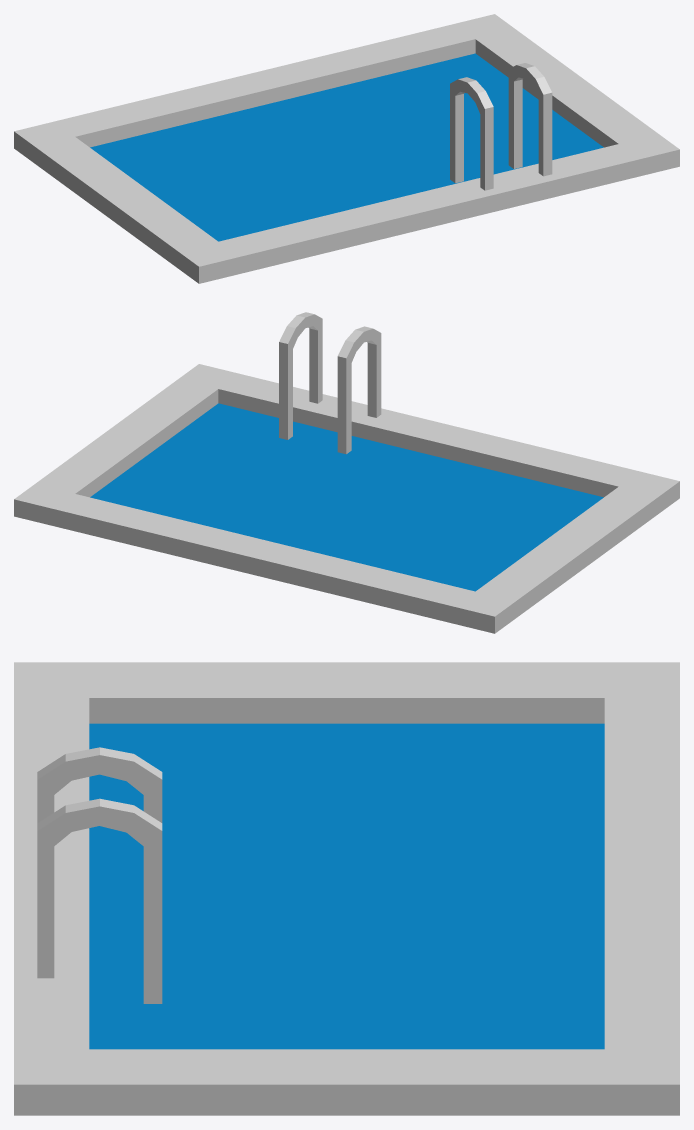
The model's file is piscine1.fbx.
The picture shows the model from 3 angles, top to bottom: view 1: azimuth 30°, elevation 25°; view 2: azimuth 150°, elevation 25°; view 3: azimuth 270°, elevation 25°; orthographic projection. The views are drawn at different scales.
Parts seen in each view (by area): view 1: Piscine; view 2: Piscine; view 3: Piscine.
Part boxes in pixels (<box>): Piscine: <box>14,14,679,283</box>; Piscine: <box>14,312,679,633</box>; Piscine: <box>14,662,679,1115</box>.
Size of the model in its own units: 751 by 168 by 501.
